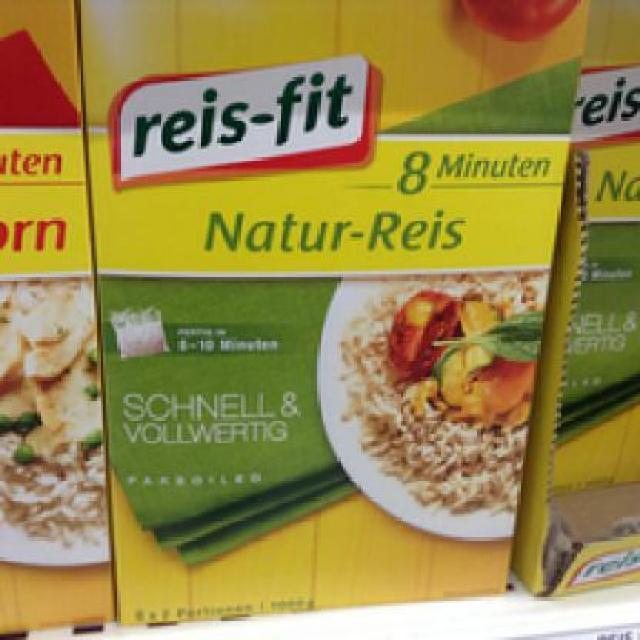Rice: (71, 0, 588, 617)
